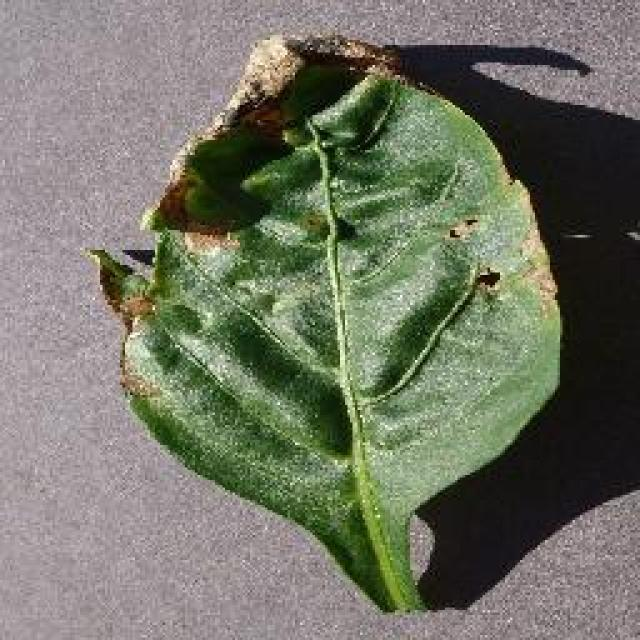Chilli_Bacterial_Spot: (88, 30, 568, 615), (438, 210, 508, 300), (232, 92, 290, 148), (292, 205, 332, 243), (440, 210, 482, 245), (115, 290, 157, 325), (470, 263, 502, 295), (443, 222, 465, 242), (460, 212, 480, 230)
